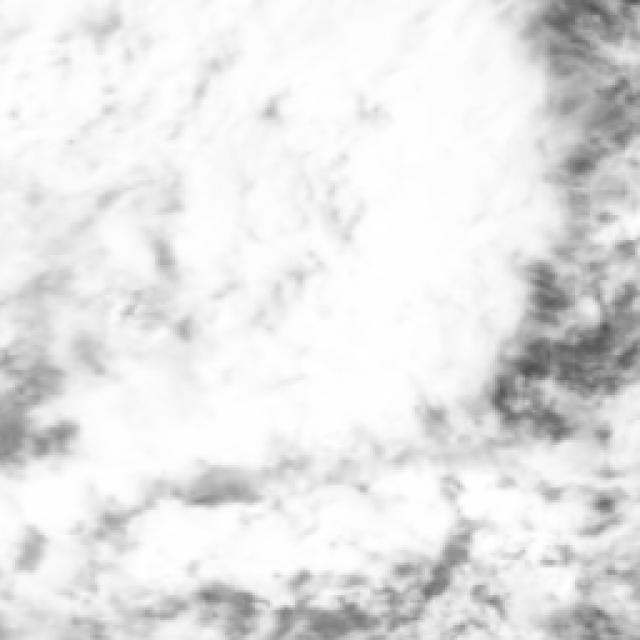CB: (0, 0, 482, 255), (210, 251, 464, 378), (93, 389, 264, 464)
